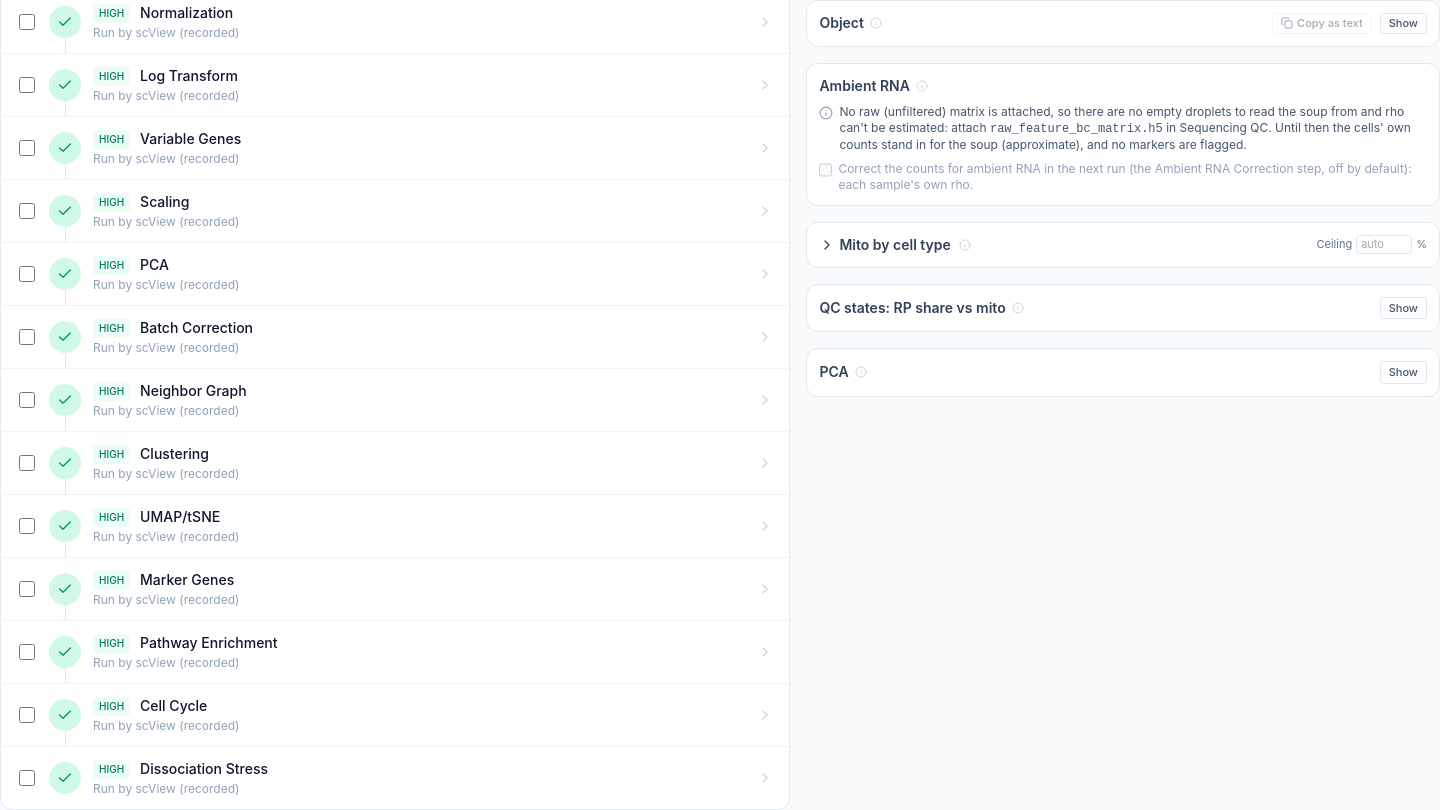
Scenario: DataAssessmentPanel: the Leiden optimisation setting › is always shown on Clustering, full optimisation by default, with what fast Leiden changes
(page scrolled)
Click the text "Clustering" at (174, 454), box x1=140 y1=444 x2=209 y2=464
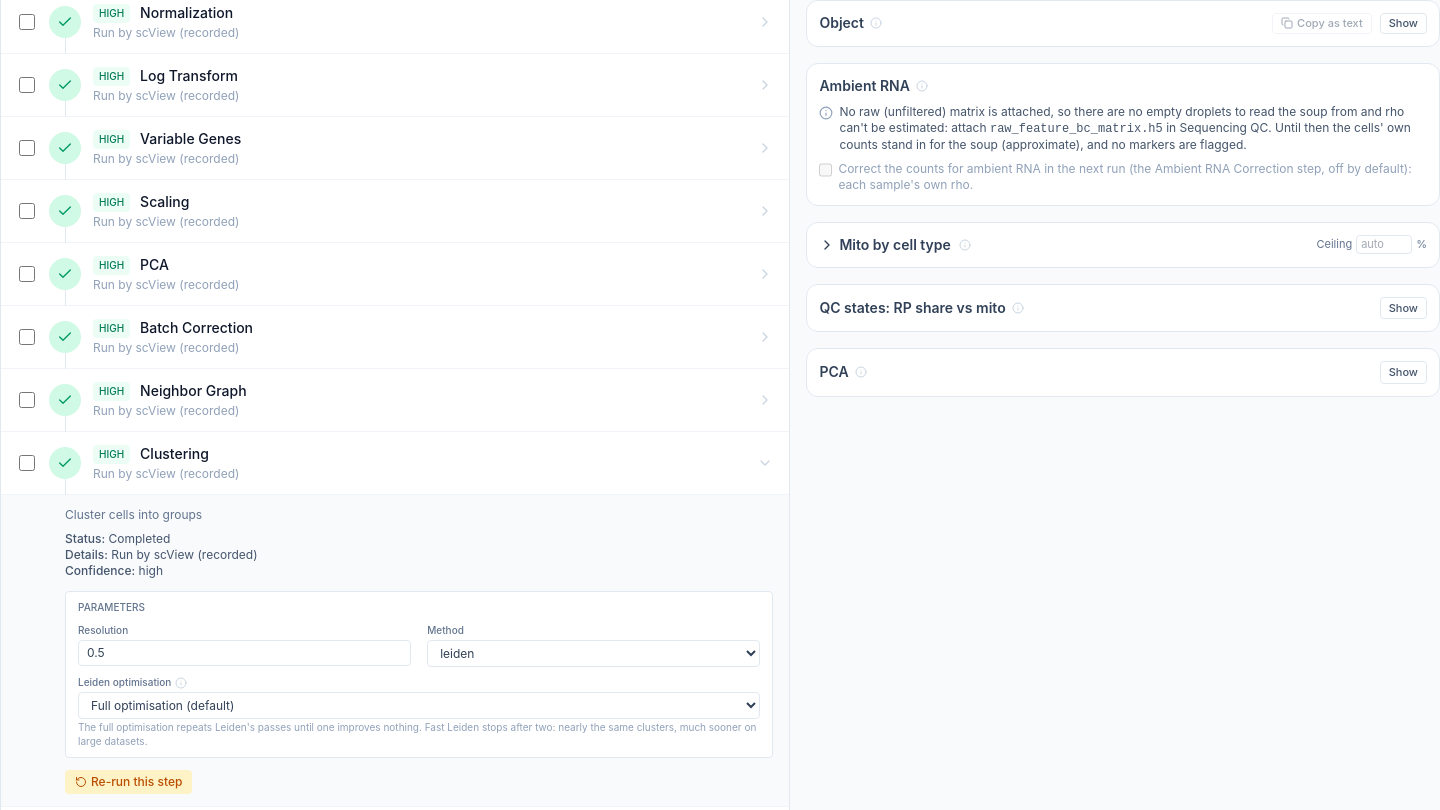
Hover over the button named "What fast Leiden changes" at (181, 682), box x1=175 y1=676 x2=187 y2=688
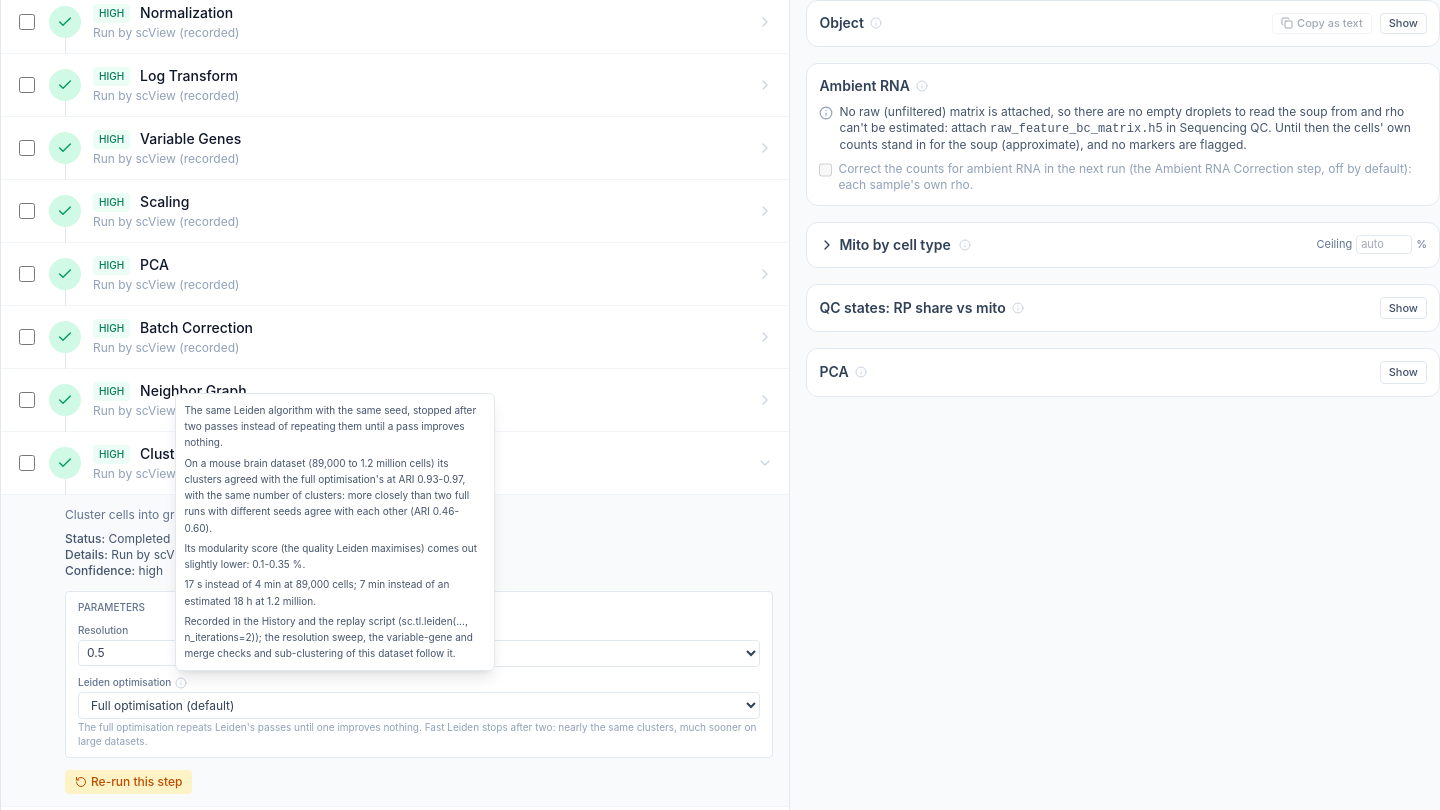
Expected: the tooltip shows "ARI 0.93-0.97", x1=184 y1=456 x2=469 y2=534
